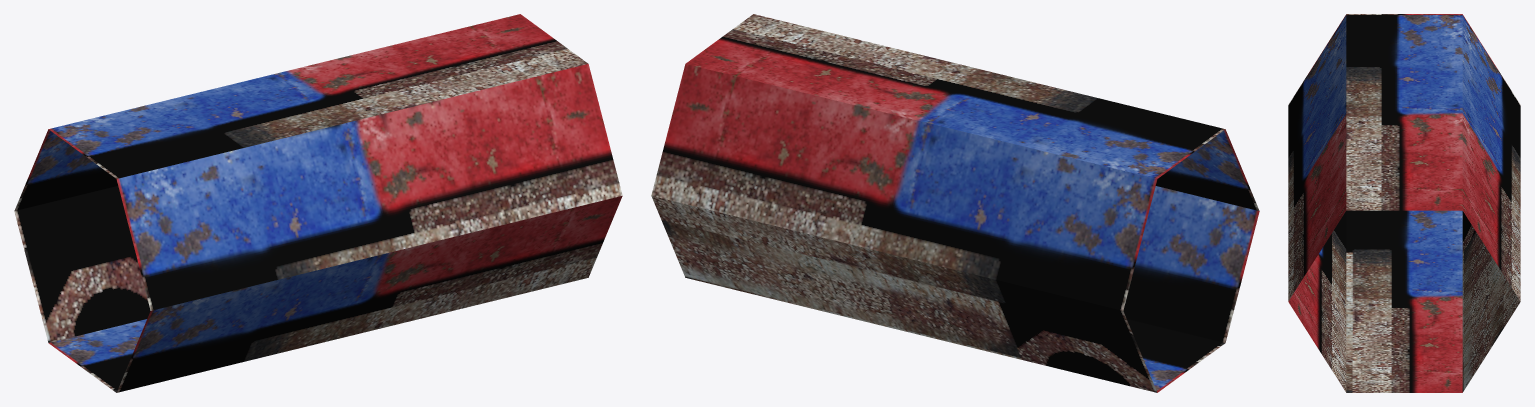
Rendered from Urban_PipeRusted_Model.fbx.
3 views of the same model, side by side, from view 1: azimuth 30°, elevation 25°; view 2: azimuth 150°, elevation 25°; view 3: azimuth 270°, elevation 25° (orthographic). The views are drawn at different scales.
Visible parts, largest first — view 1: Urban_PipeRusted_Mesh; view 2: Urban_PipeRusted_Mesh; view 3: Urban_PipeRusted_Mesh.
Part boxes in pixels (left/top/right/bottom): Urban_PipeRusted_Mesh: left=14, top=14, right=622, bottom=392; Urban_PipeRusted_Mesh: left=651, top=14, right=1259, bottom=392; Urban_PipeRusted_Mesh: left=1288, top=14, right=1520, bottom=392.
Size of the model in its own units: 1 by 0.433 by 0.5.
